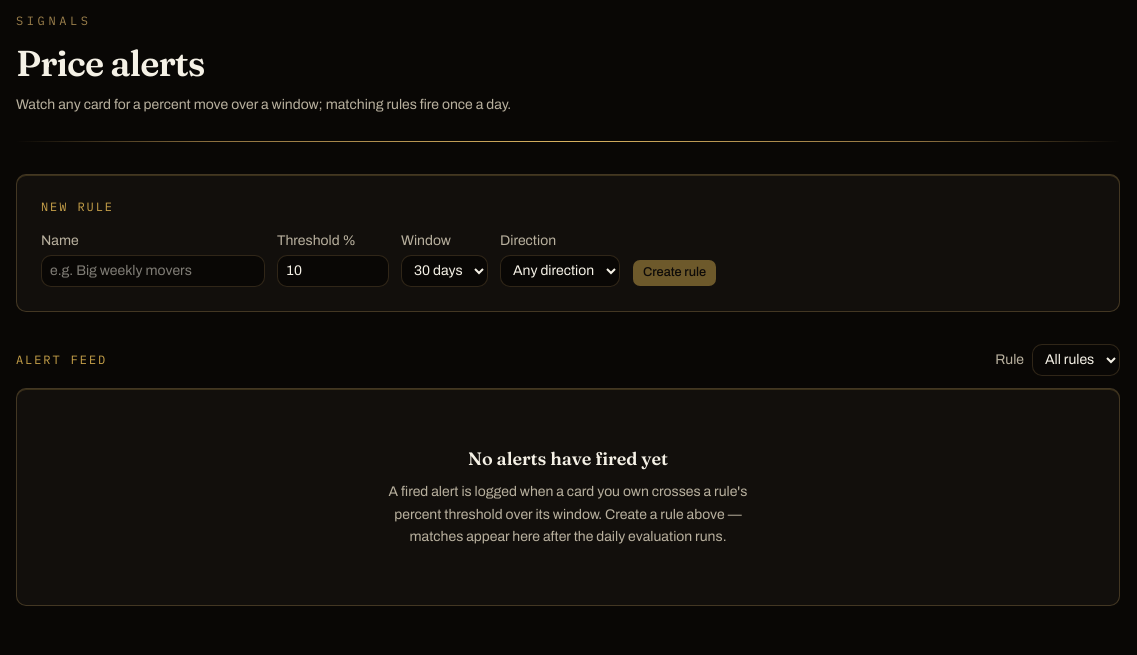
AlertsPage — create rule form › submits the rule with the typed name and default window/direction/threshold
Type "My rule" into the field named "rule name" at (153, 271), box [41, 255, 265, 287]
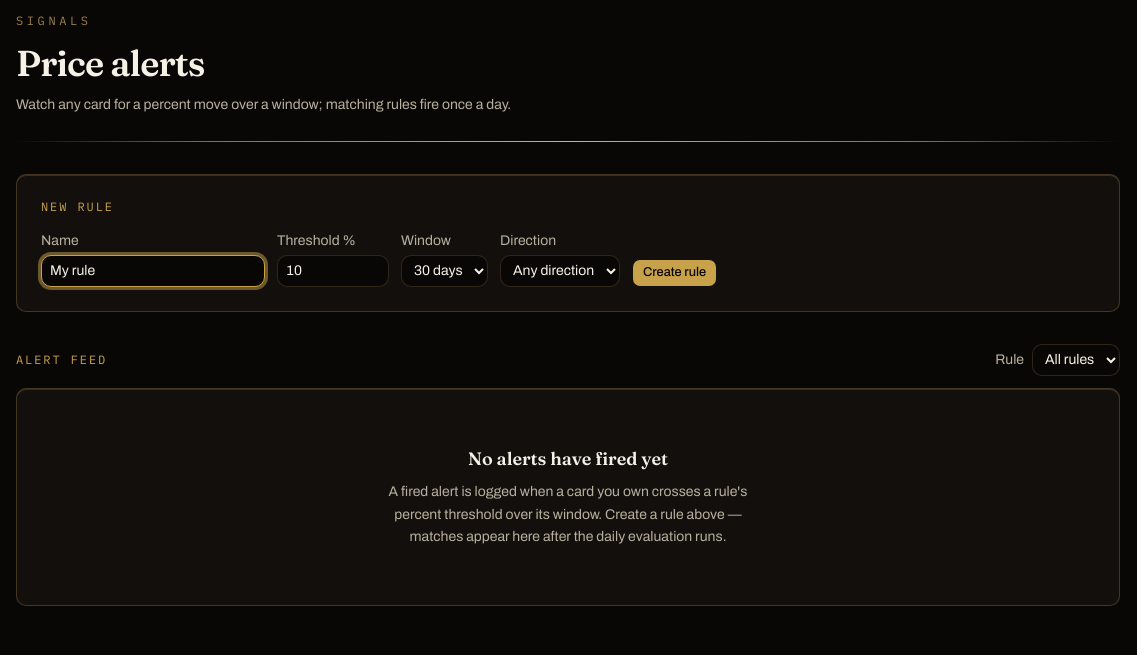
Click the button "Create rule" at (675, 273), box [632, 259, 717, 287]
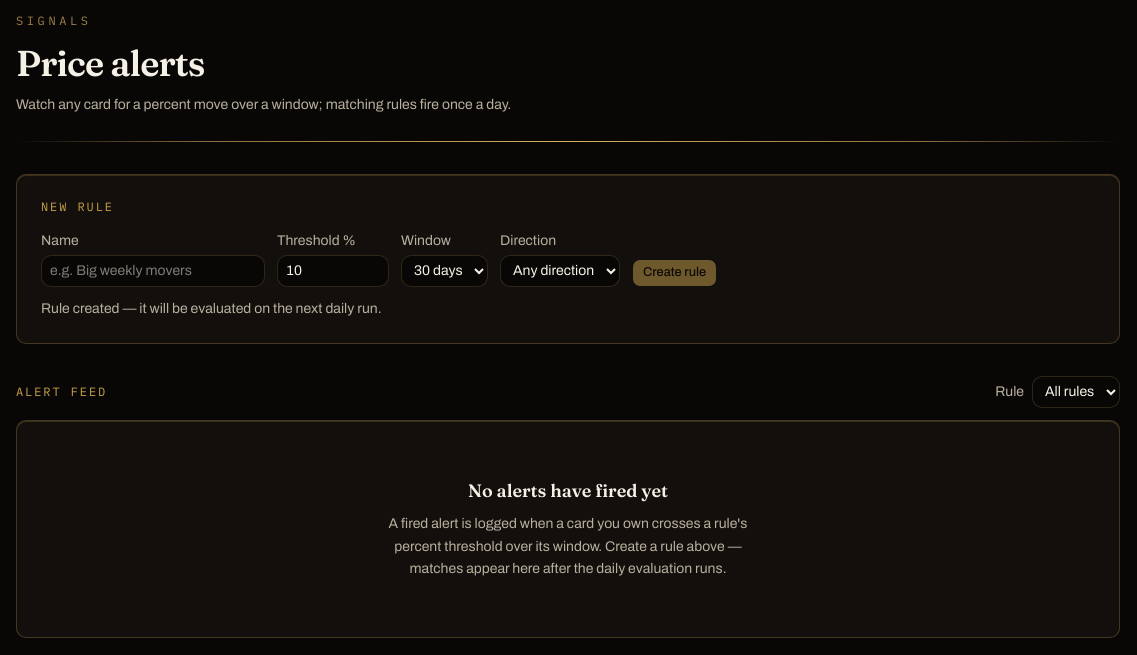
Now the text "Rule created — it will be evaluated on the next daily run." is shown, box [41, 301, 382, 316]
